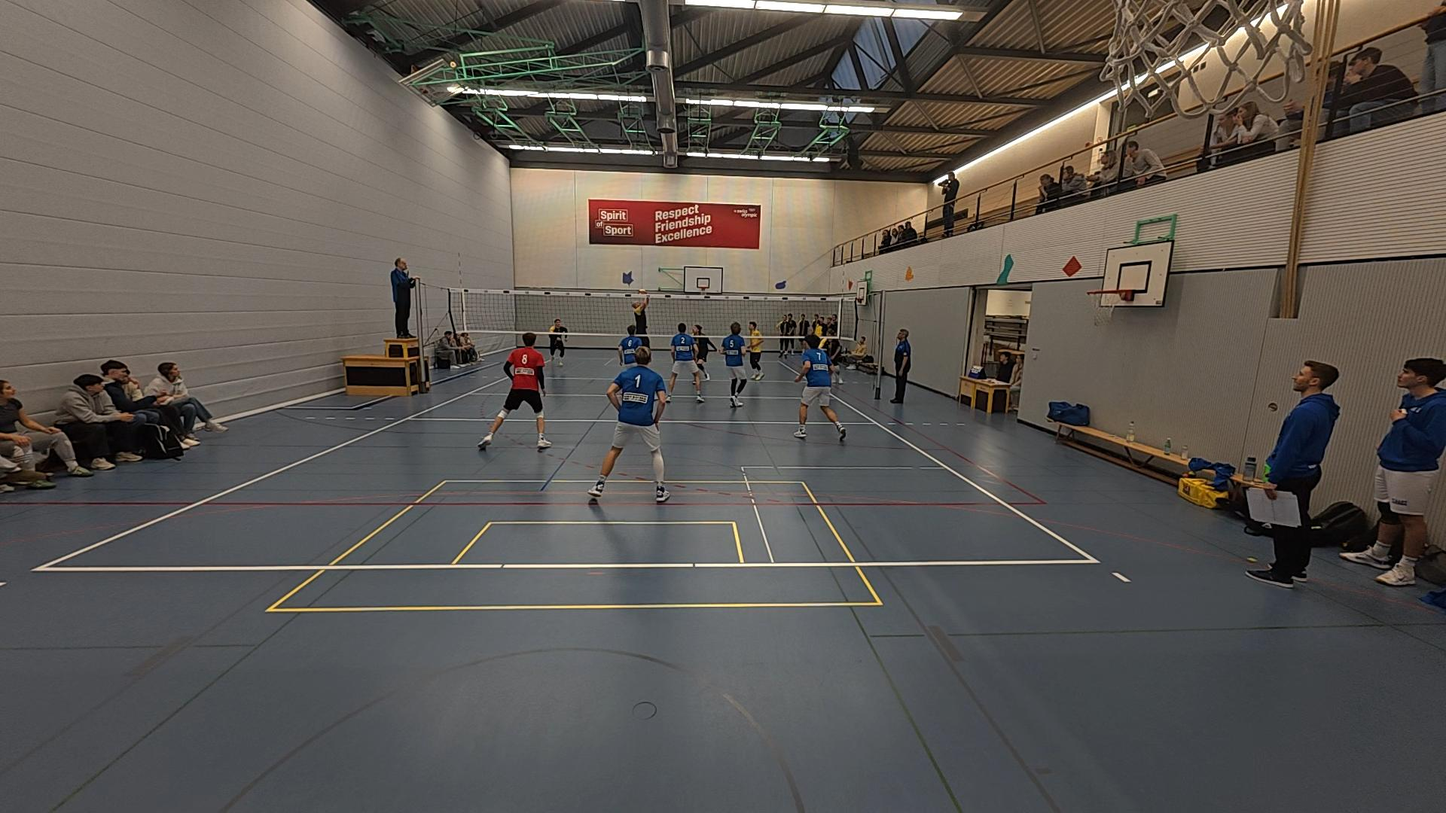Player: (587, 350, 670, 503), (477, 333, 551, 451), (792, 334, 847, 443), (682, 322, 715, 401), (724, 321, 752, 410), (669, 321, 694, 392), (545, 316, 569, 382), (618, 324, 653, 369), (819, 329, 844, 386), (742, 321, 764, 379)
Set: (626, 286, 655, 346)
ball: (901, 264, 917, 281), (640, 286, 654, 300)
